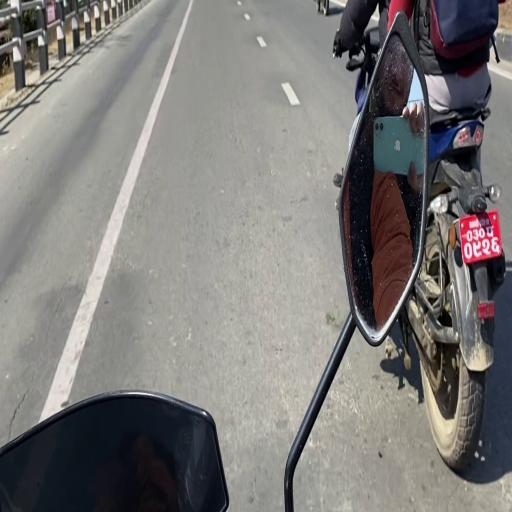license_plate: (457, 203, 504, 270)
